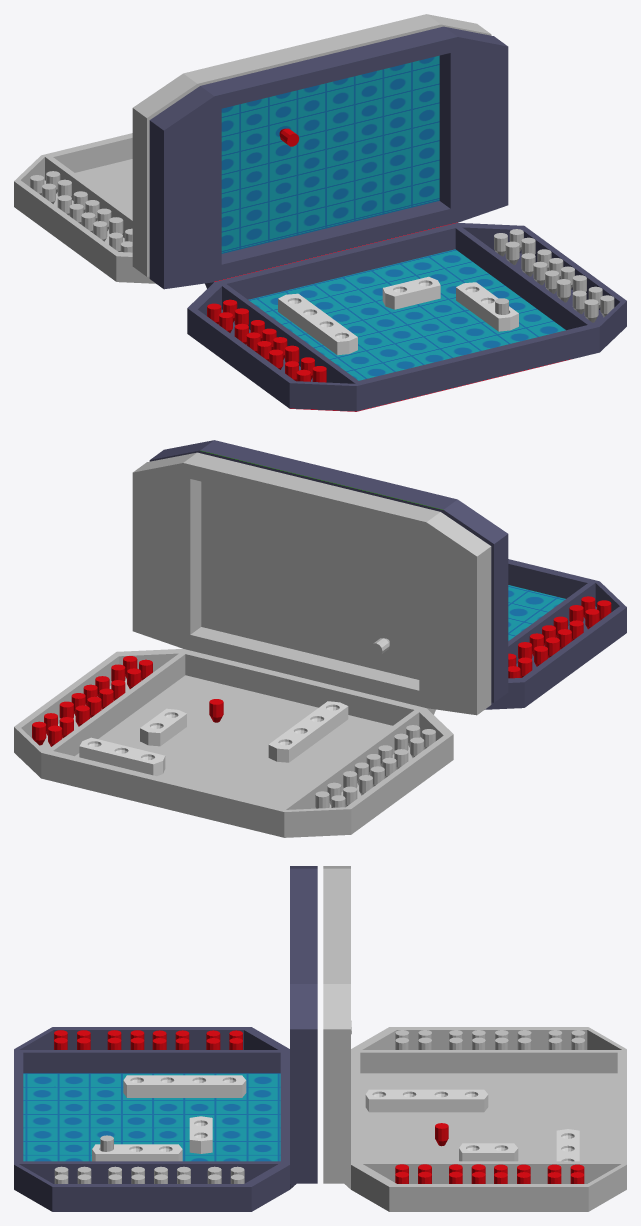
The model's file is Battleship.dae.
The picture shows the model from 3 angles, top to bottom: view 1: azimuth 30°, elevation 25°; view 2: azimuth 150°, elevation 25°; view 3: azimuth 270°, elevation 25°; orthographic projection. The views are drawn at different scales.
Visible parts, largest first — view 1: board1, board2, Ship3, Ship2, Ship1; view 2: board2, board1, Ship3.001, Ship2.001, Ship1.001; view 3: board2, board1, Ship3.001, Ship3, Ship2, Ship1.001, Ship1, Ship2.001.
Boxes of the visible parts, box(x1,y1,x2,y2) form: board1: box(149, 26, 626, 411); board2: box(14, 14, 491, 283); Ship3: box(278, 293, 357, 355); Ship2: box(456, 282, 518, 331); Ship1: box(382, 276, 440, 309); board2: box(14, 452, 491, 837); board1: box(149, 440, 626, 709); Ship3.001: box(268, 701, 348, 762); Ship2.001: box(79, 737, 165, 776); Ship1.001: box(140, 708, 186, 746); board2: box(323, 866, 626, 1211); board1: box(14, 866, 317, 1211); Ship3.001: box(365, 1089, 488, 1112); Ship3: box(123, 1075, 246, 1097); Ship2: box(92, 1144, 182, 1161); Ship1.001: box(459, 1143, 518, 1161); Ship1: box(189, 1116, 212, 1153); Ship2.001: box(556, 1129, 579, 1161).
Size of the model in its own units: 2.8 by 4.44 by 1.64.
